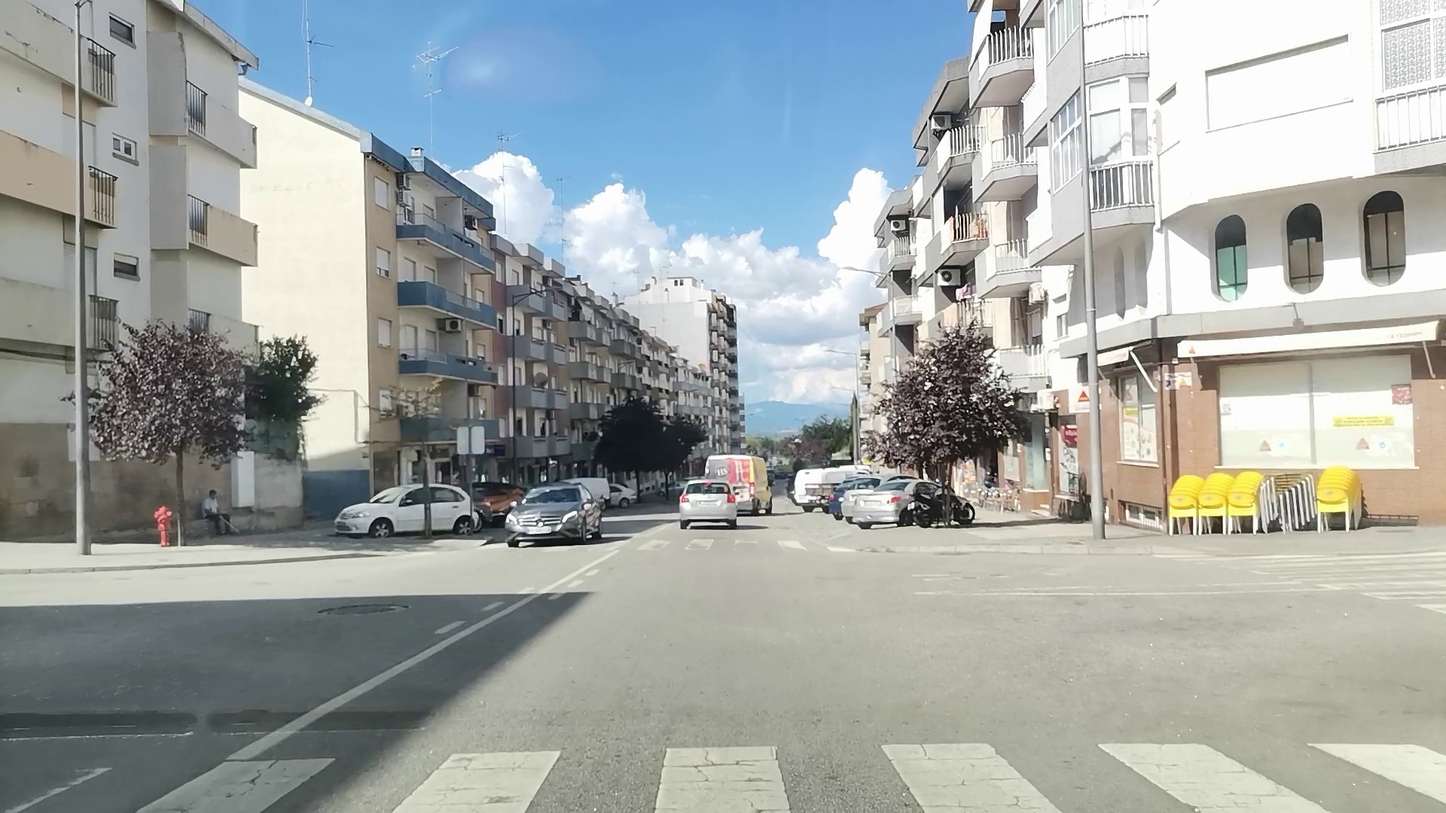Stairs: (638, 538, 851, 553)
